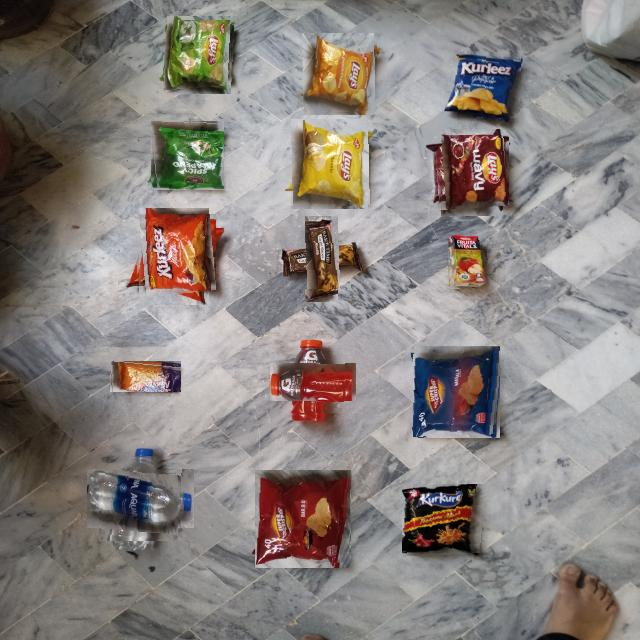Plastic: (255, 470, 352, 567), (413, 347, 502, 437), (287, 122, 371, 206), (132, 214, 216, 298), (99, 457, 182, 541), (402, 484, 487, 557), (299, 36, 377, 113), (434, 135, 509, 210), (150, 120, 224, 190), (163, 20, 235, 91), (445, 52, 521, 118), (282, 351, 345, 413), (291, 229, 351, 289), (445, 234, 487, 289), (109, 360, 181, 392)
